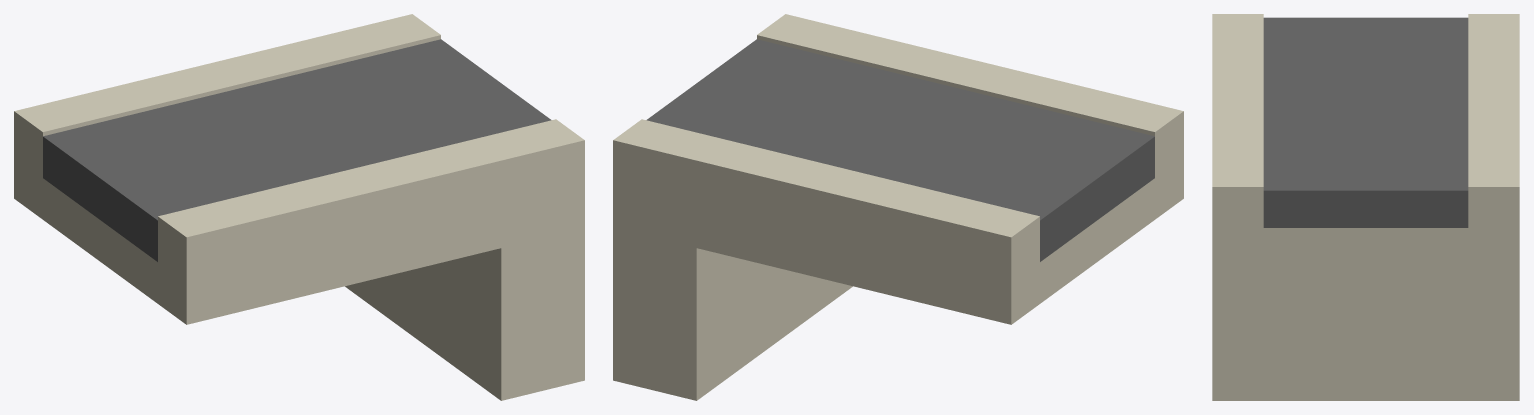
Rendered from roadTile_209.obj.
3 views of the same model, side by side, from view 1: azimuth 30°, elevation 25°; view 2: azimuth 150°, elevation 25°; view 3: azimuth 270°, elevation 25° (orthographic). The views are drawn at different scales.
Parts seen in each view (by area): view 1: Mesh1_Group1_Model.208; view 2: Mesh1_Group1_Model.208; view 3: Mesh1_Group1_Model.208.
Boxes of the visible parts, bbox=[...] form: Mesh1_Group1_Model.208: bbox=[14, 14, 584, 400]; Mesh1_Group1_Model.208: bbox=[613, 14, 1183, 400]; Mesh1_Group1_Model.208: bbox=[1212, 14, 1519, 400].
Size of the model in its own units: 3 by 1.73 by 2.25.
